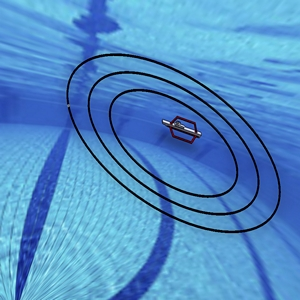circle: (56, 39, 288, 245)
submarine: (162, 111, 204, 151)
